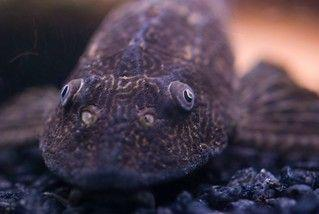Janitor Fish: (39, 0, 273, 188)
